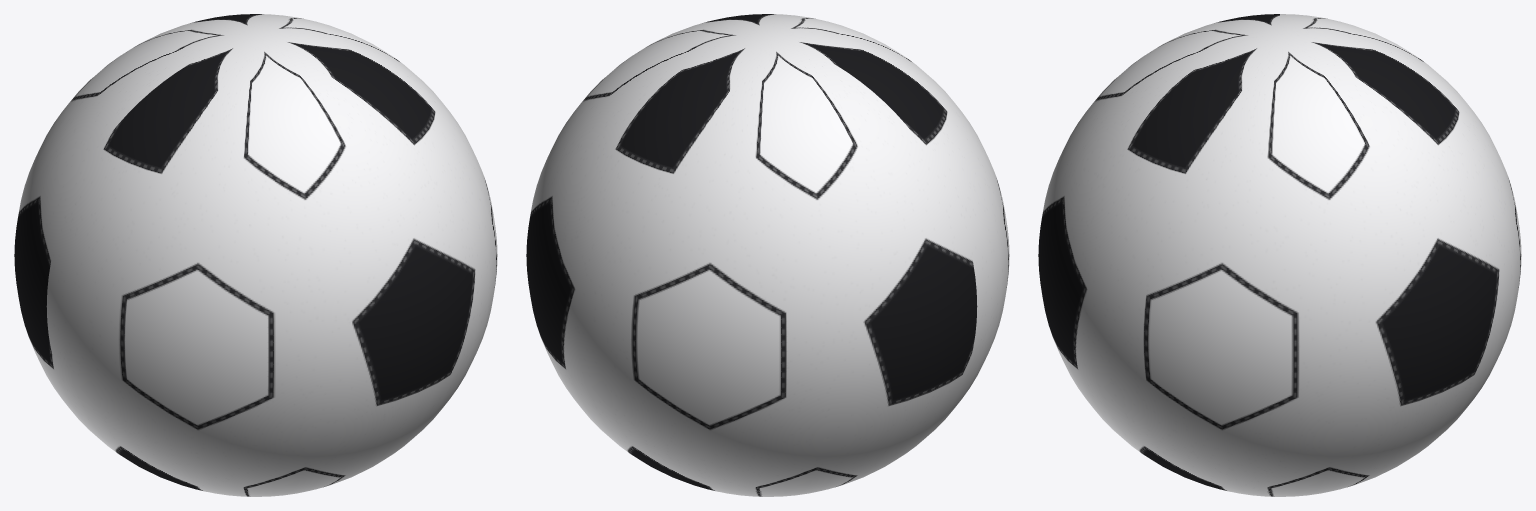
The model's file is soccer.glb.
The picture shows the model from 3 angles, left to right: view 1: azimuth 30°, elevation 25°; view 2: azimuth 150°, elevation 25°; view 3: azimuth 270°, elevation 25°; orthographic projection.
Bounding box in the file's own units: 2.2 × 2.2 × 2.2.
1 material, 1 textured.
